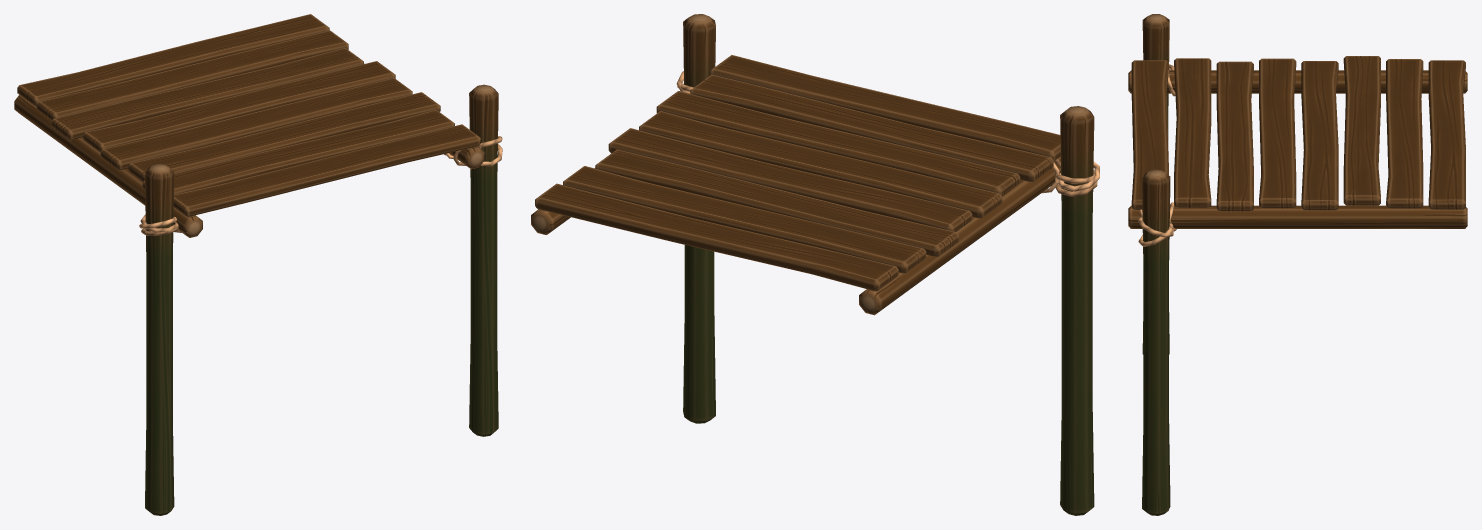
Rendered from End.2.fbx.
3 renders of one model, left to right at view 1: azimuth 30°, elevation 25°; view 2: azimuth 150°, elevation 25°; view 3: azimuth 270°, elevation 25°, orthographic. The views are drawn at different scales.
Parts seen in each view (by area): view 1: End.2; view 2: End.2; view 3: End.2.
Boxes of the visible parts, x1,y1,x2,y2 form: End.2: (14, 14, 502, 515); End.2: (531, 14, 1099, 515); End.2: (1128, 14, 1467, 515).
Size of the model in its own units: 241 by 220 by 200.
